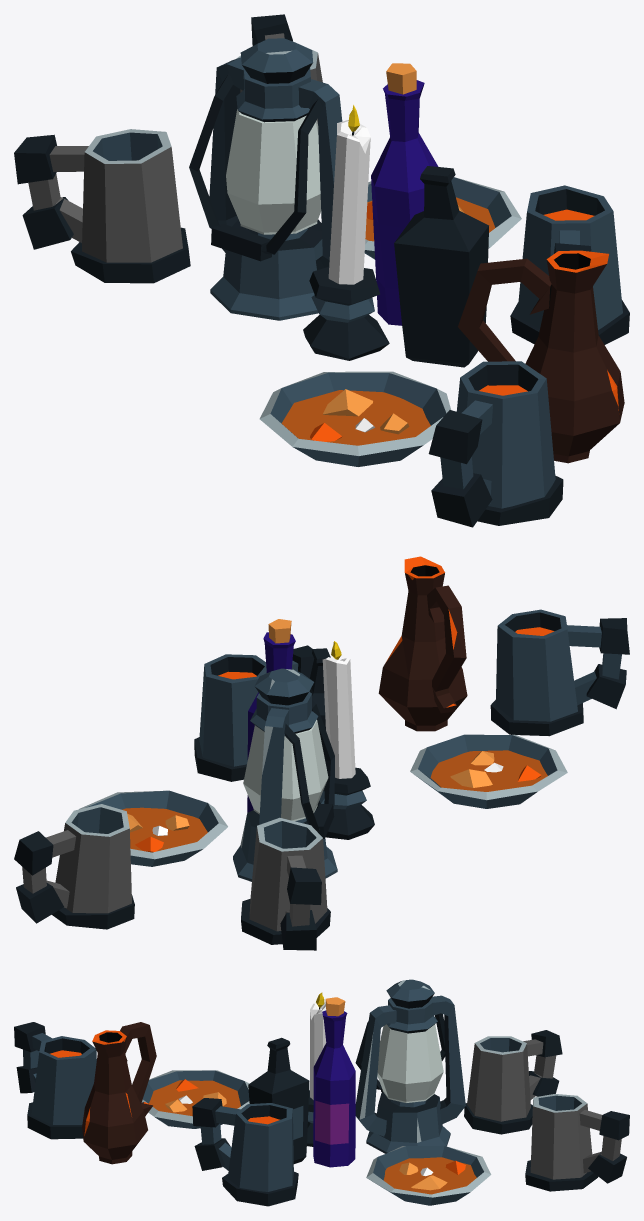
File: arredo.fbx
3 views of the same model, one above another, from view 1: azimuth 30°, elevation 25°; view 2: azimuth 150°, elevation 25°; view 3: azimuth 270°, elevation 25° (orthographic). The views are drawn at different scales.
Visible parts, largest first — view 1: group1523682768, group1290912154, group734222387, group406415189, group1280995885, group1409490378, group343966361, group409571200, group754962241, group125015847, group1698681086; view 2: group734222387, group1523682768, group1698681086, group406415189, group1290912154, group1280995885, group409571200, group125015847, group343966361, group754962241, group1409490378; view 3: group1523682768, group409571200, group1698681086, group1290912154, group406415189, group734222387, group754962241, group125015847, group1280995885, group1409490378, group343966361.
Boxes of the visible parts, left/top/right/bottom form: group1523682768: left=189, top=38, right=342, bottom=320; group1290912154: left=14, top=129, right=190, bottom=283; group734222387: left=428, top=361, right=563, bottom=527; group406415189: left=458, top=250, right=624, bottom=463; group1280995885: left=259, top=371, right=450, bottom=466; group1409490378: left=394, top=166, right=488, bottom=367; group343966361: left=303, top=105, right=389, bottom=360; group409571200: left=510, top=185, right=629, bottom=344; group754962241: left=371, top=63, right=438, bottom=325; group125015847: left=364, top=177, right=521, bottom=259; group1698681086: left=236, top=14, right=322, bottom=123; group734222387: left=490, top=609, right=629, bottom=736; group1523682768: left=233, top=668, right=337, bottom=881; group1698681086: left=14, top=804, right=134, bottom=929; group406415189: left=378, top=556, right=467, bottom=731; group1290912154: left=241, top=817, right=330, bottom=950; group1280995885: left=410, top=734, right=567, bottom=808; group409571200: left=194, top=645, right=314, bottom=781; group125015847: left=79, top=790, right=227, bottom=866; group343966361: left=319, top=641, right=374, bottom=839; group754962241: left=247, top=619, right=295, bottom=812; group1409490378: left=309, top=648, right=330, bottom=808; group1523682768: left=355, top=979, right=465, bottom=1153; group409571200: left=192, top=1098, right=298, bottom=1206; group1698681086: left=525, top=1094, right=629, bottom=1191; group1290912154: left=464, top=1030, right=562, bottom=1134; group406415189: left=82, top=1022, right=156, bottom=1164; group734222387: left=14, top=1022, right=96, bottom=1139; group754962241: left=313, top=997, right=355, bottom=1167; group125015847: left=366, top=1145, right=491, bottom=1205; group1280995885: left=141, top=1070, right=249, bottom=1128; group1409490378: left=248, top=1037, right=309, bottom=1163; group343966361: left=307, top=992, right=326, bottom=1146.
Size of the model in its own units: 0.8539 by 0.5054 by 1.73.
